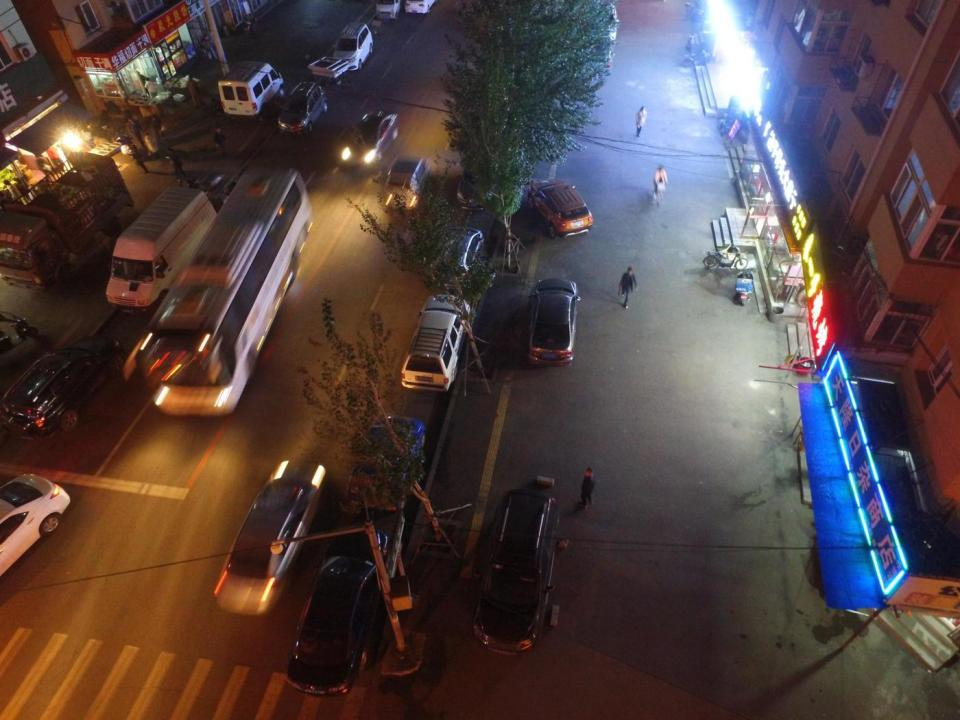bus: (140, 166, 312, 419)
car: (286, 525, 389, 696), (218, 464, 324, 614), (473, 489, 560, 655), (1, 329, 124, 444), (0, 474, 73, 585), (344, 414, 423, 512), (399, 293, 470, 389), (522, 279, 578, 368), (530, 180, 594, 240), (340, 110, 399, 167), (457, 144, 506, 210), (435, 227, 484, 290), (279, 81, 329, 134), (383, 157, 430, 213)
truck: (0, 152, 131, 290)
van: (106, 186, 218, 318), (218, 62, 284, 117), (336, 20, 372, 72), (405, 0, 434, 15), (376, 0, 398, 18)
